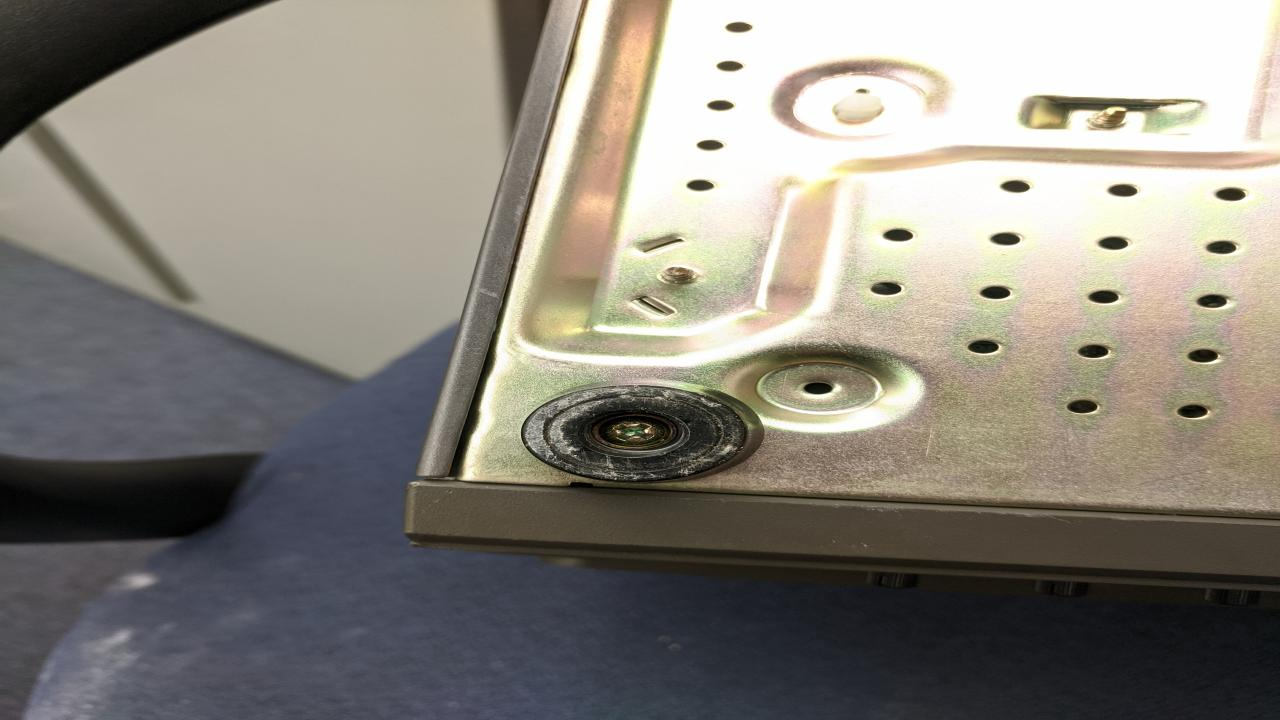CRS: (598, 419, 666, 447)
